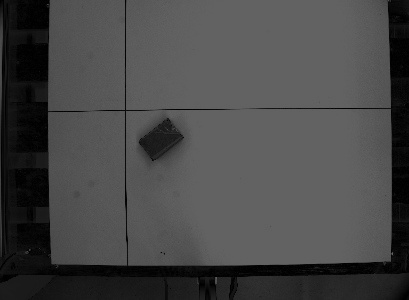b1: (137, 114, 186, 164)
